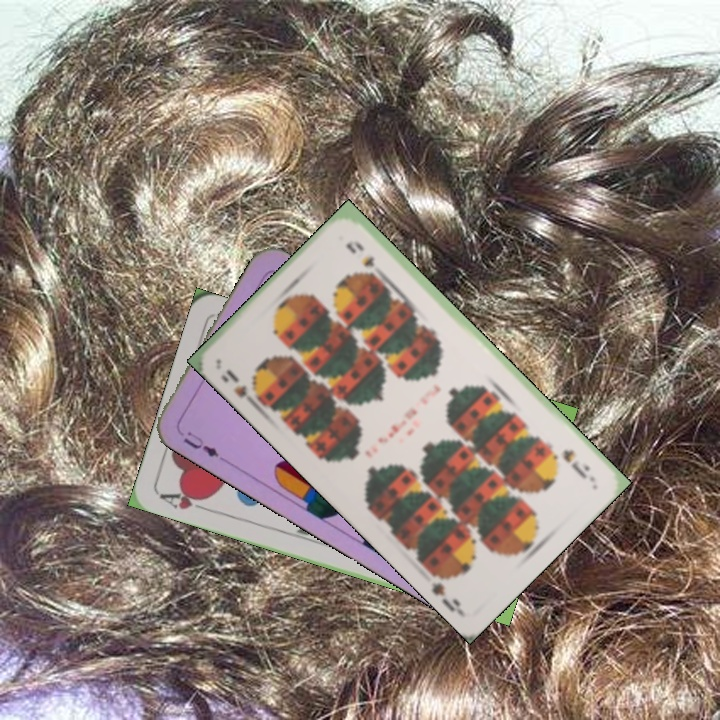EU: (179, 427, 228, 464)
HA: (156, 485, 214, 515)
S9: (221, 365, 263, 411), (559, 445, 593, 474)
